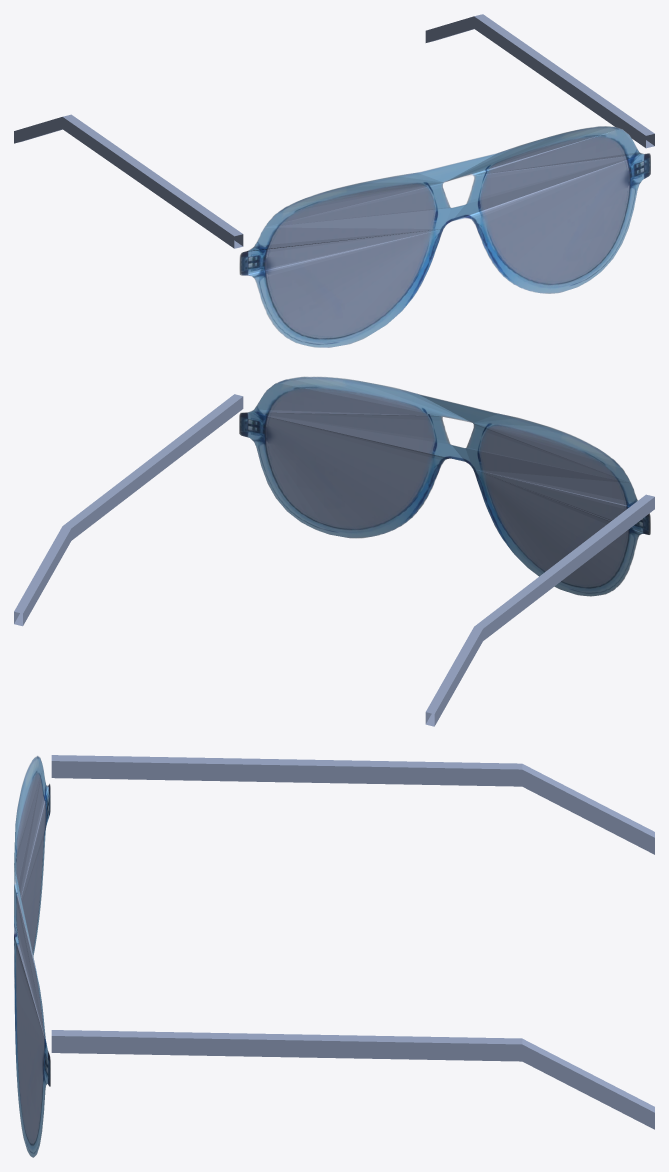
The model's file is dkny-dk556s_crystal-blue.glb.
The picture shows the model from 3 angles, top to bottom: view 1: azimuth 30°, elevation 25°; view 2: azimuth 150°, elevation 25°; view 3: azimuth 270°, elevation 25°; orthographic projection. The views are drawn at different scales.
Parts seen in each view (by area): view 1: frame_front, temple_viewer_left, temple_viewer_right; view 2: frame_front, temple_viewer_right, temple_viewer_left; view 3: temple_viewer_left, temple_viewer_right, frame_front.
Boxes of the visible parts, left/top/right/bottom form: frame_front: left=239, top=126, right=650, bottom=347; temple_viewer_left: left=14, top=114, right=243, bottom=248; temple_viewer_right: left=425, top=14, right=654, bottom=148; frame_front: left=239, top=376, right=650, bottom=596; temple_viewer_right: left=14, top=394, right=243, bottom=626; temple_viewer_left: left=425, top=494, right=654, bottom=726; temple_viewer_left: left=51, top=755, right=654, bottom=854; temple_viewer_right: left=51, top=1030, right=654, bottom=1129; frame_front: left=14, top=755, right=50, bottom=1157.
Bounding box in the file's own units: 0.141 × 0.0512 × 0.136.
2 materials, 2 textured.
